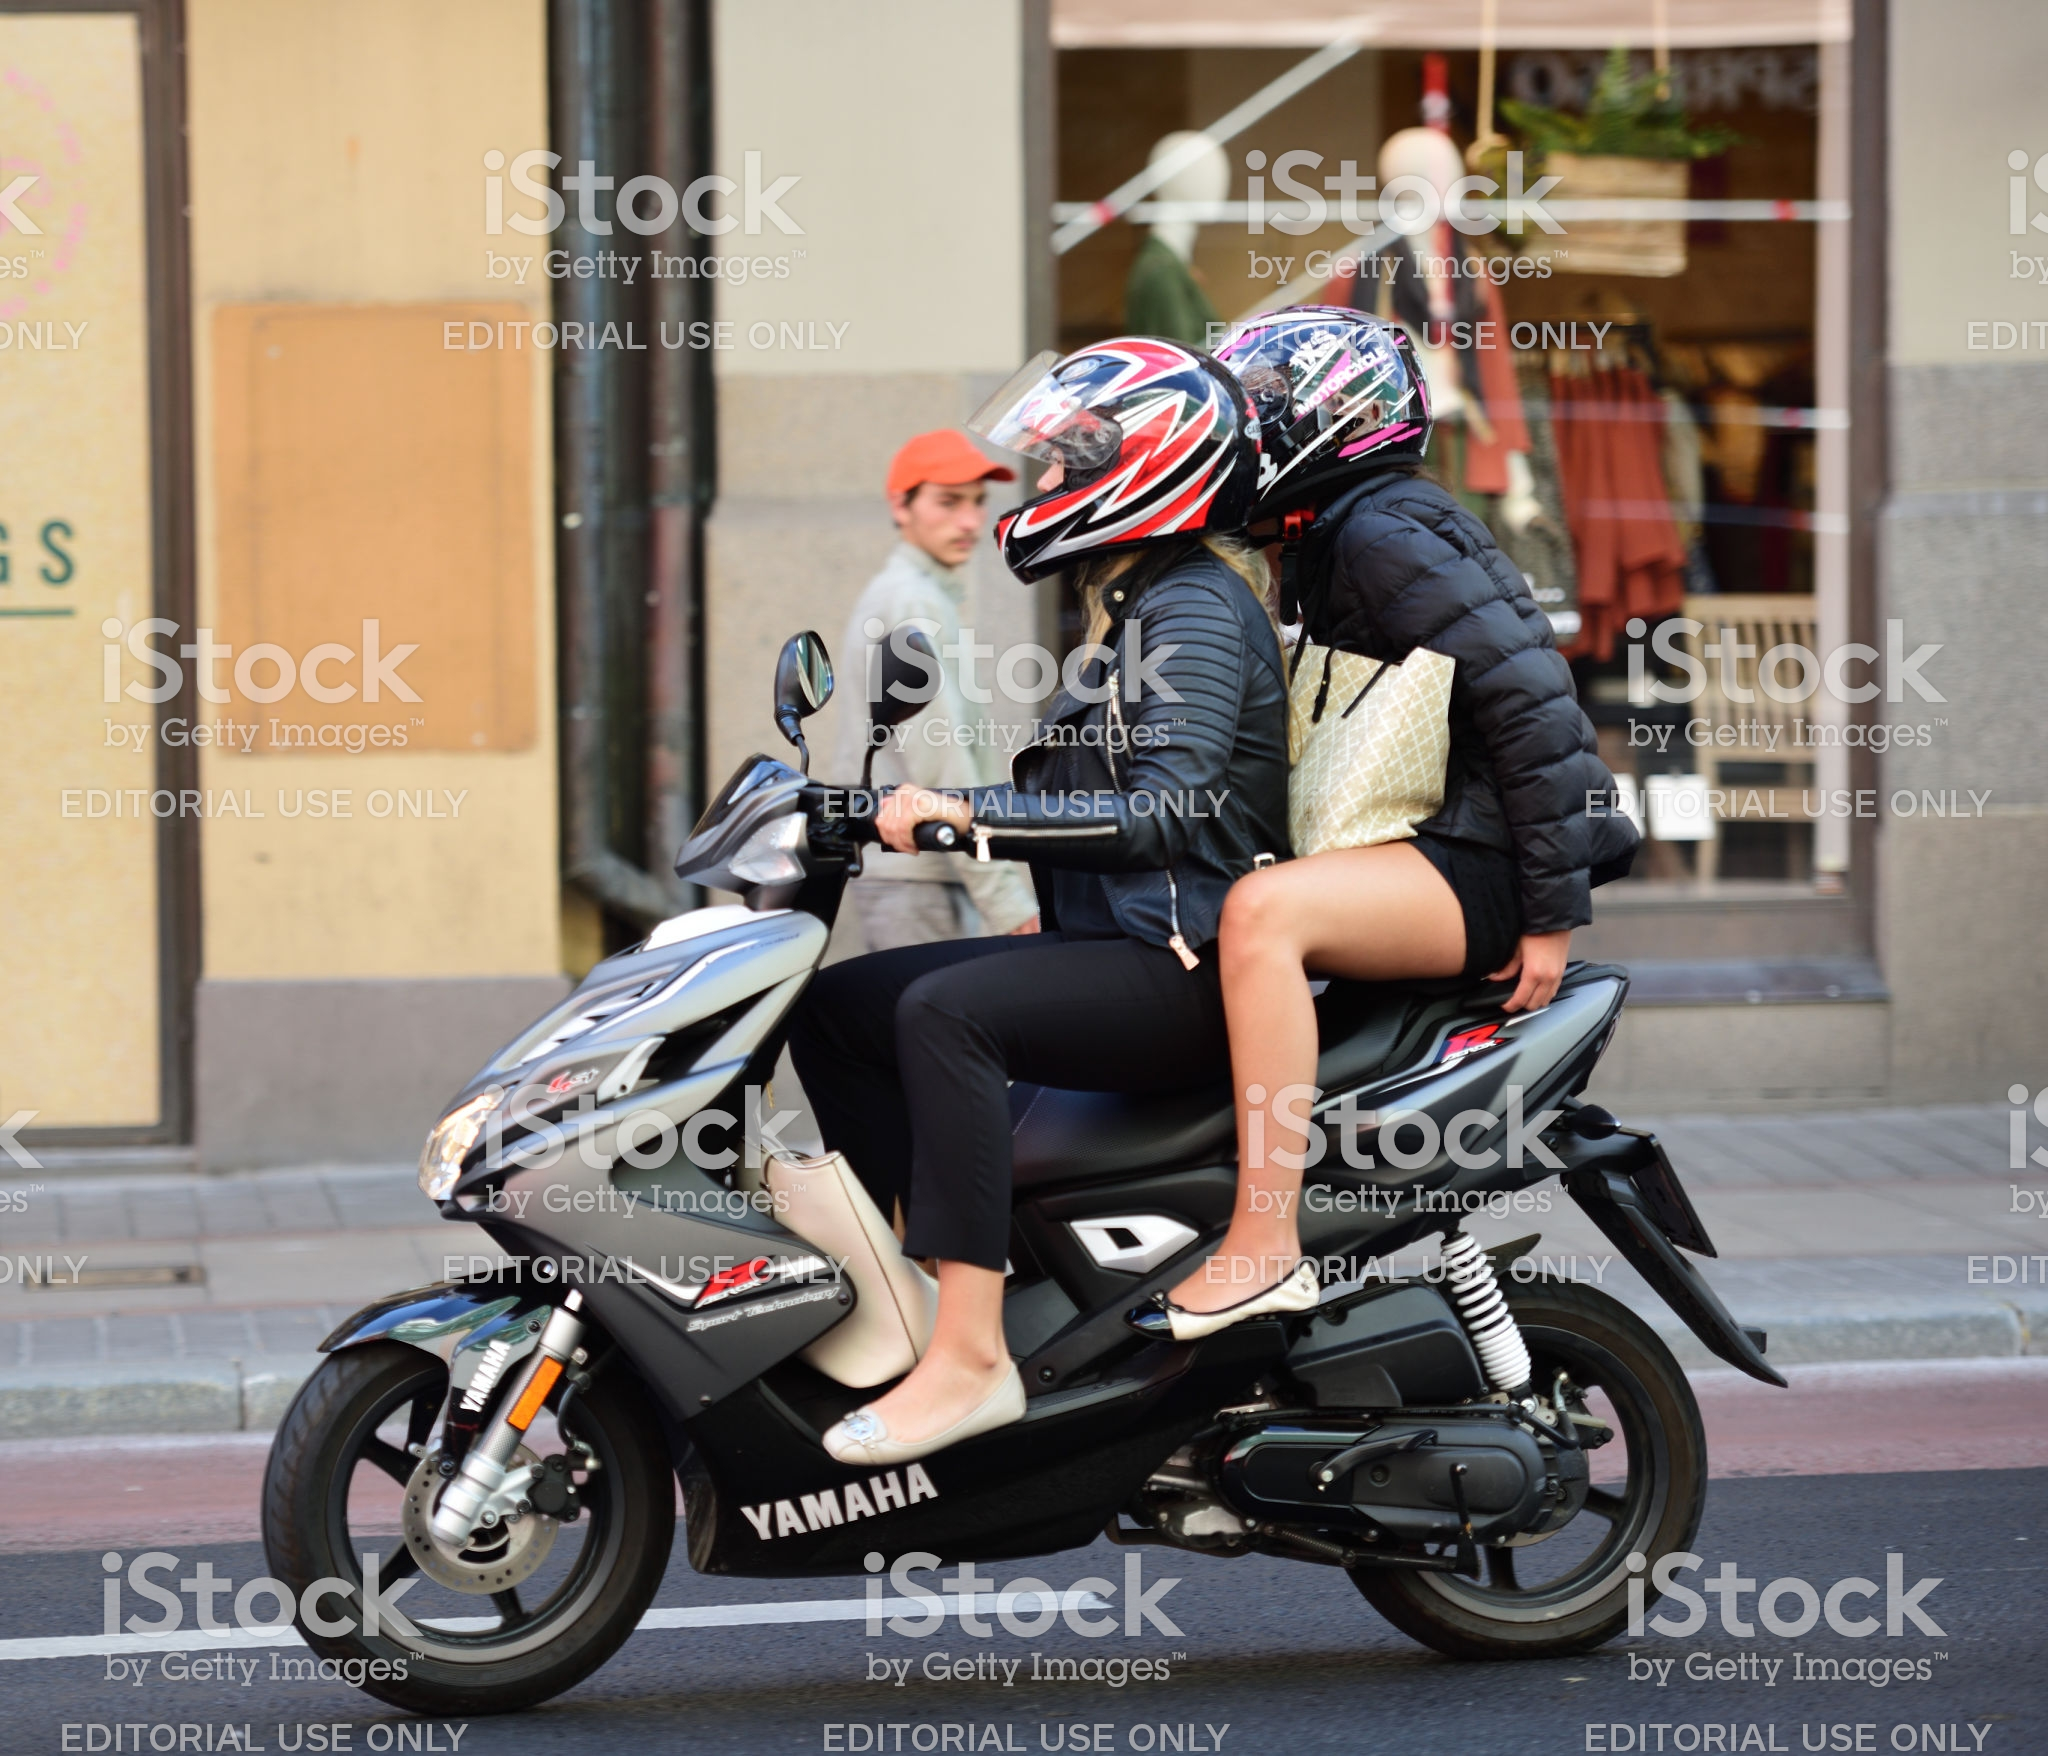helmet: (975, 341, 1285, 571), (1209, 321, 1463, 523)
